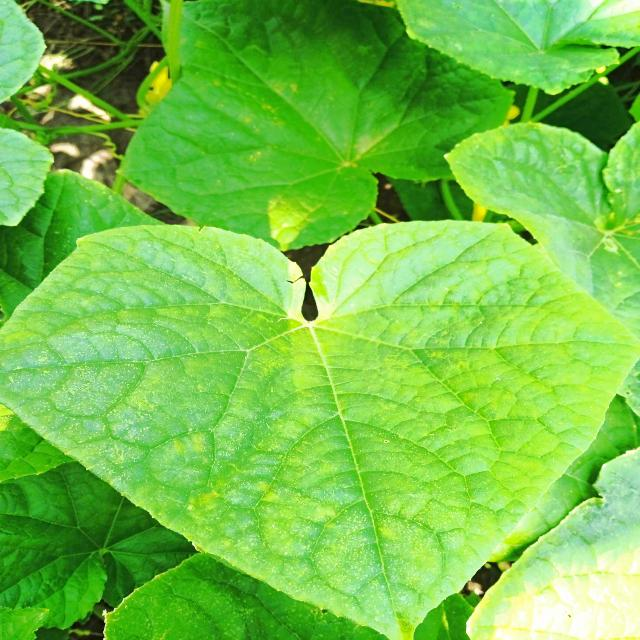Fresh-Leaf: (0, 217, 640, 640)
